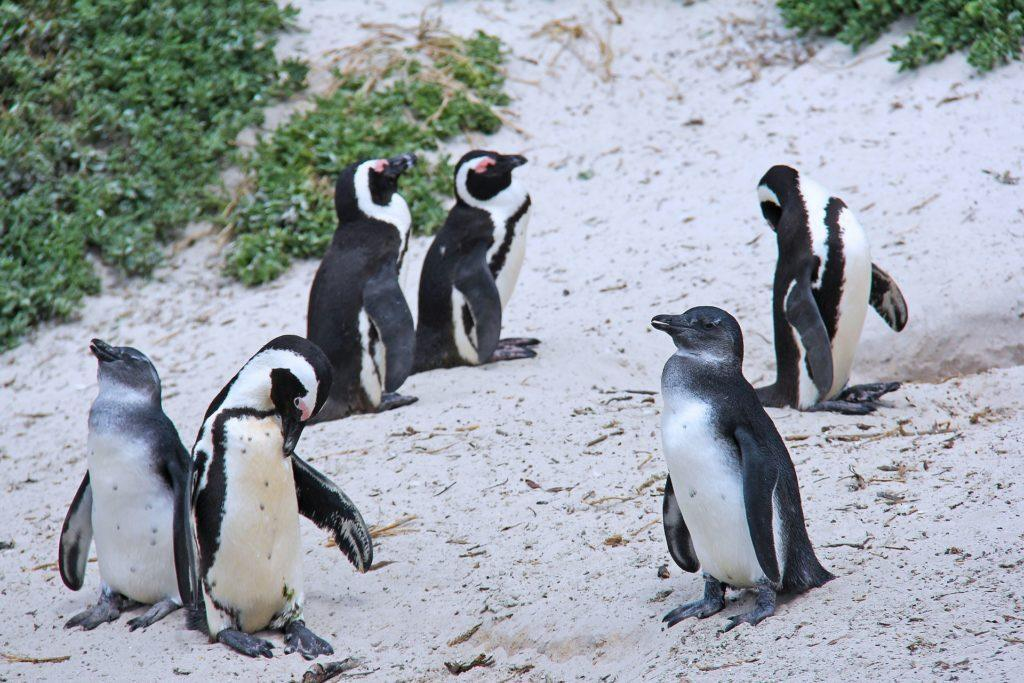Penguin: (188, 335, 372, 658), (652, 306, 834, 629), (58, 338, 194, 630), (756, 164, 908, 413), (308, 152, 416, 422), (412, 150, 538, 373)
